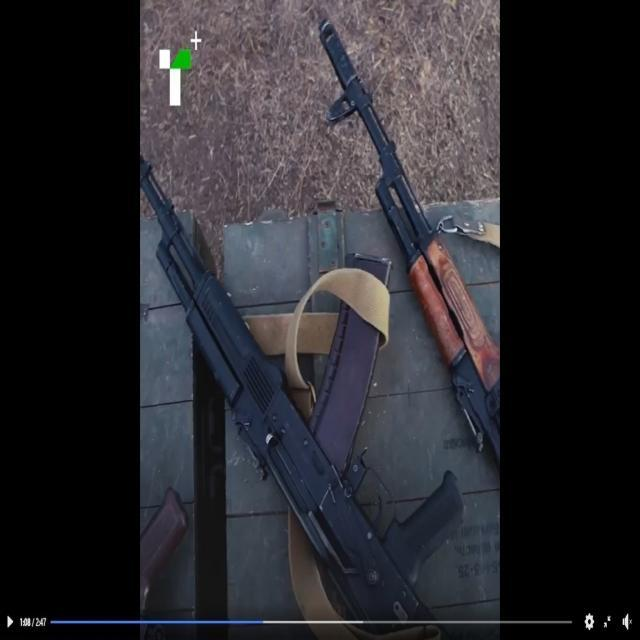ak: (138, 140, 471, 623)
